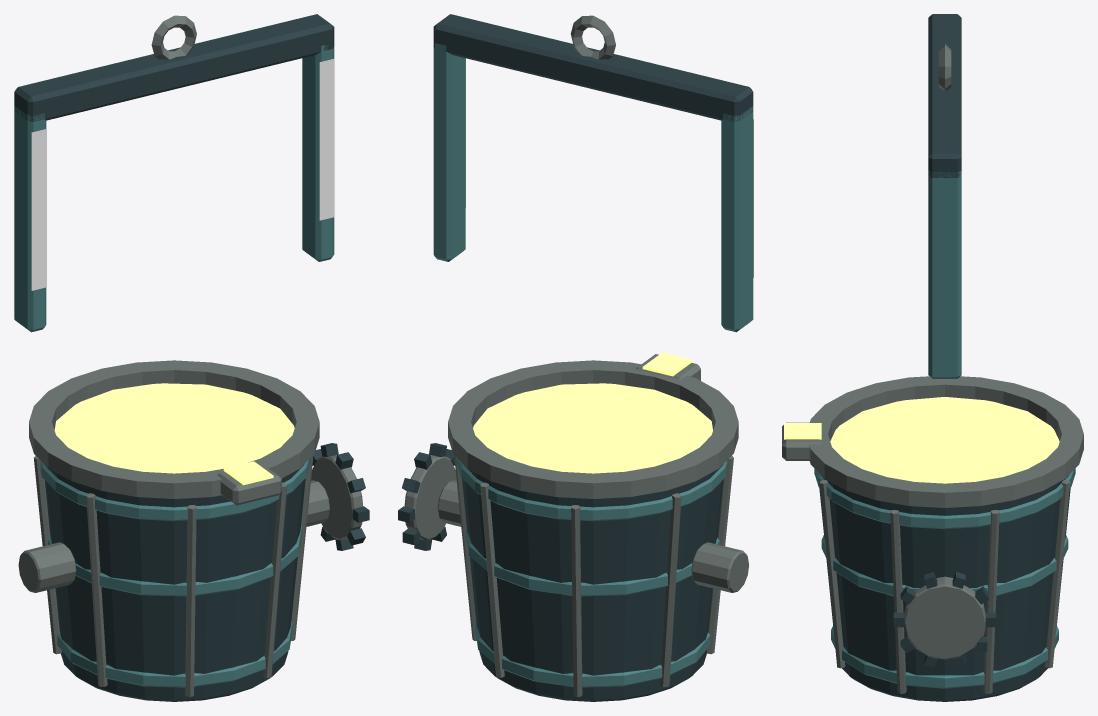
The model's file is foundry-crucible.glb.
3 views of the same model, side by side, from view 1: azimuth 30°, elevation 25°; view 2: azimuth 150°, elevation 25°; view 3: azimuth 270°, elevation 25° (orthographic). The views are drawn at different scales.
Parts seen in each view (by area): view 1: foundry-crucible__ladle-tilt__steel, foundry-crucible__ladle-tilt__hardware, foundry-crucible__ladle-tilt__molten-core, foundry-crucible__foundry-crucible__steel, foundry-crucible__foundry-crucible__petrol, foundry-crucible__ladle-tilt__petrol, foundry-crucible__foundry-crucible__decal-hazard, foundry-crucible__foundry-crucible__hardware; view 2: foundry-crucible__ladle-tilt__steel, foundry-crucible__ladle-tilt__hardware, foundry-crucible__ladle-tilt__molten-core, foundry-crucible__foundry-crucible__petrol, foundry-crucible__foundry-crucible__steel, foundry-crucible__ladle-tilt__petrol, foundry-crucible__foundry-crucible__hardware; view 3: foundry-crucible__ladle-tilt__steel, foundry-crucible__ladle-tilt__hardware, foundry-crucible__ladle-tilt__molten-core, foundry-crucible__ladle-tilt__petrol, foundry-crucible__foundry-crucible__petrol, foundry-crucible__foundry-crucible__steel, foundry-crucible__foundry-crucible__hardware.
Boxes of the visible parts, left/top/right/bottom form: foundry-crucible__ladle-tilt__steel: left=44, top=428, right=369, bottom=701; foundry-crucible__ladle-tilt__hardware: left=18, top=360, right=363, bottom=697; foundry-crucible__ladle-tilt__molten-core: left=54, top=383, right=294, bottom=485; foundry-crucible__foundry-crucible__steel: left=14, top=14, right=334, bottom=121; foundry-crucible__foundry-crucible__petrol: left=14, top=45, right=334, bottom=332; foundry-crucible__ladle-tilt__petrol: left=40, top=458, right=310, bottom=687; foundry-crucible__foundry-crucible__decal-hazard: left=31, top=58, right=334, bottom=290; foundry-crucible__foundry-crucible__hardware: left=151, top=15, right=196, bottom=59; foundry-crucible__ladle-tilt__steel: left=398, top=428, right=723, bottom=701; foundry-crucible__ladle-tilt__hardware: left=404, top=354, right=748, bottom=697; foundry-crucible__ladle-tilt__molten-core: left=473, top=352, right=712, bottom=473; foundry-crucible__foundry-crucible__petrol: left=433, top=43, right=753, bottom=332; foundry-crucible__foundry-crucible__steel: left=433, top=14, right=753, bottom=121; foundry-crucible__ladle-tilt__petrol: left=456, top=457, right=727, bottom=687; foundry-crucible__foundry-crucible__hardware: left=570, top=15, right=615, bottom=59; foundry-crucible__ladle-tilt__steel: left=819, top=436, right=1070, bottom=701; foundry-crucible__ladle-tilt__hardware: left=782, top=376, right=1083, bottom=693; foundry-crucible__ladle-tilt__molten-core: left=784, top=397, right=1059, bottom=483; foundry-crucible__ladle-tilt__petrol: left=814, top=468, right=1075, bottom=688; foundry-crucible__foundry-crucible__petrol: left=928, top=171, right=961, bottom=378; foundry-crucible__foundry-crucible__steel: left=928, top=14, right=961, bottom=177; foundry-crucible__foundry-crucible__hardware: left=938, top=44, right=951, bottom=90.
Size of the model in its own units: 1.7 by 3.23 by 1.45.
